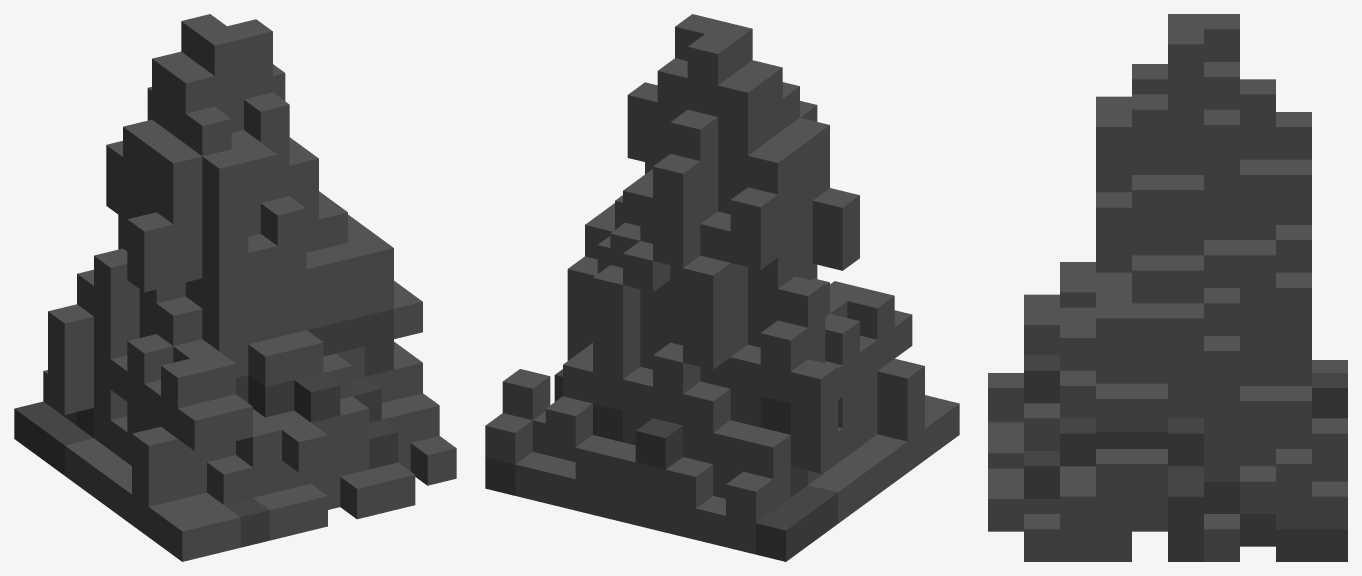
The model's file is Boden-mitte-spitze-2.0.obj.
The picture shows the model from 3 angles, left to right: view 1: azimuth 30°, elevation 25°; view 2: azimuth 150°, elevation 25°; view 3: azimuth 270°, elevation 25°; orthographic projection. The views are drawn at different scales.
Bounding box in the file's own units: 1 × 1.4 × 1.
1 material, 1 textured.
